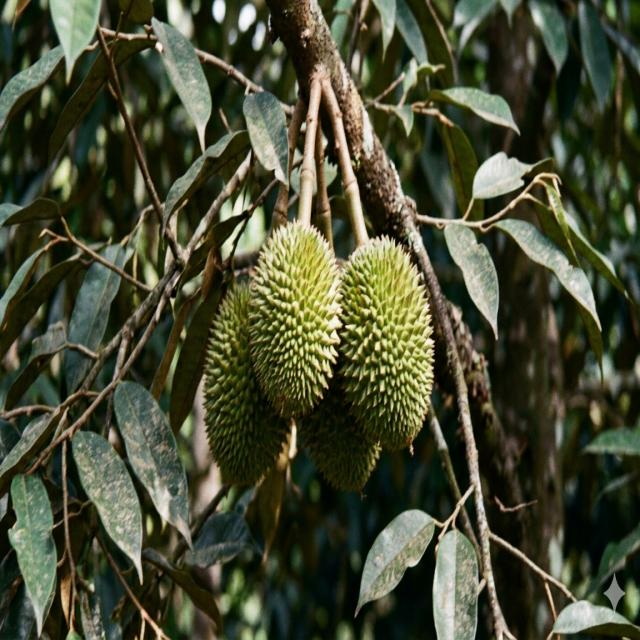immature: (333, 233, 438, 453), (248, 218, 344, 416), (201, 278, 290, 484), (305, 385, 383, 492)
